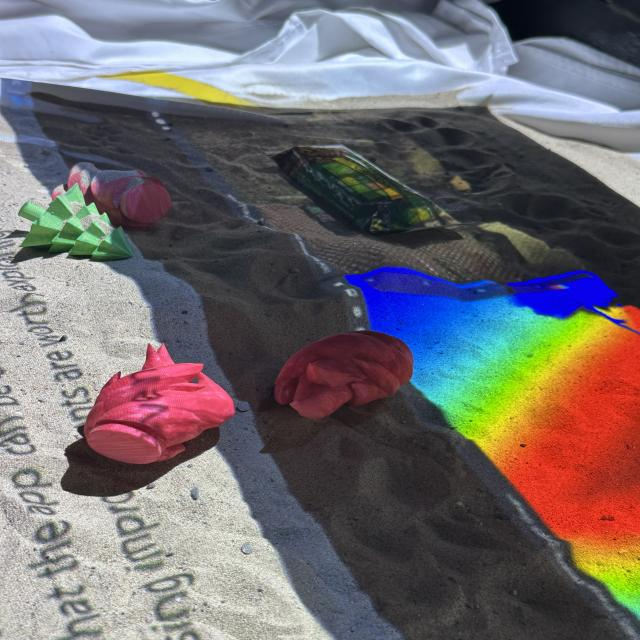fire: (85, 342, 235, 464), (274, 331, 414, 419), (51, 160, 170, 228)
tree: (16, 184, 136, 263)
